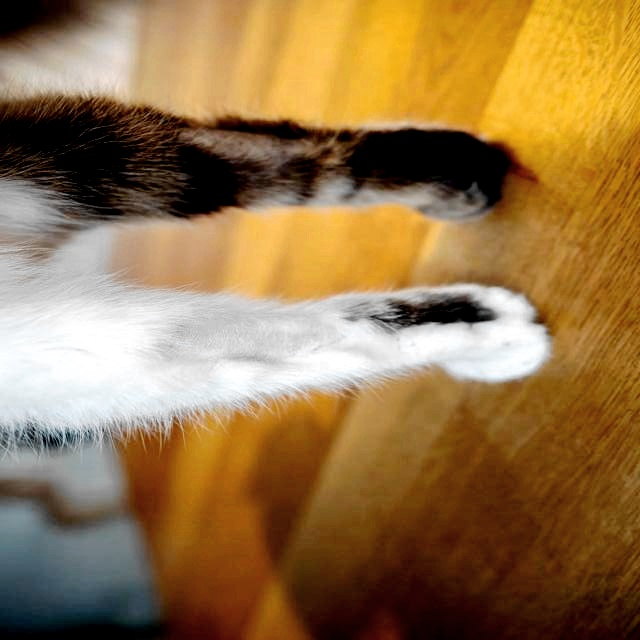hairloss: (150, 298, 358, 368)
